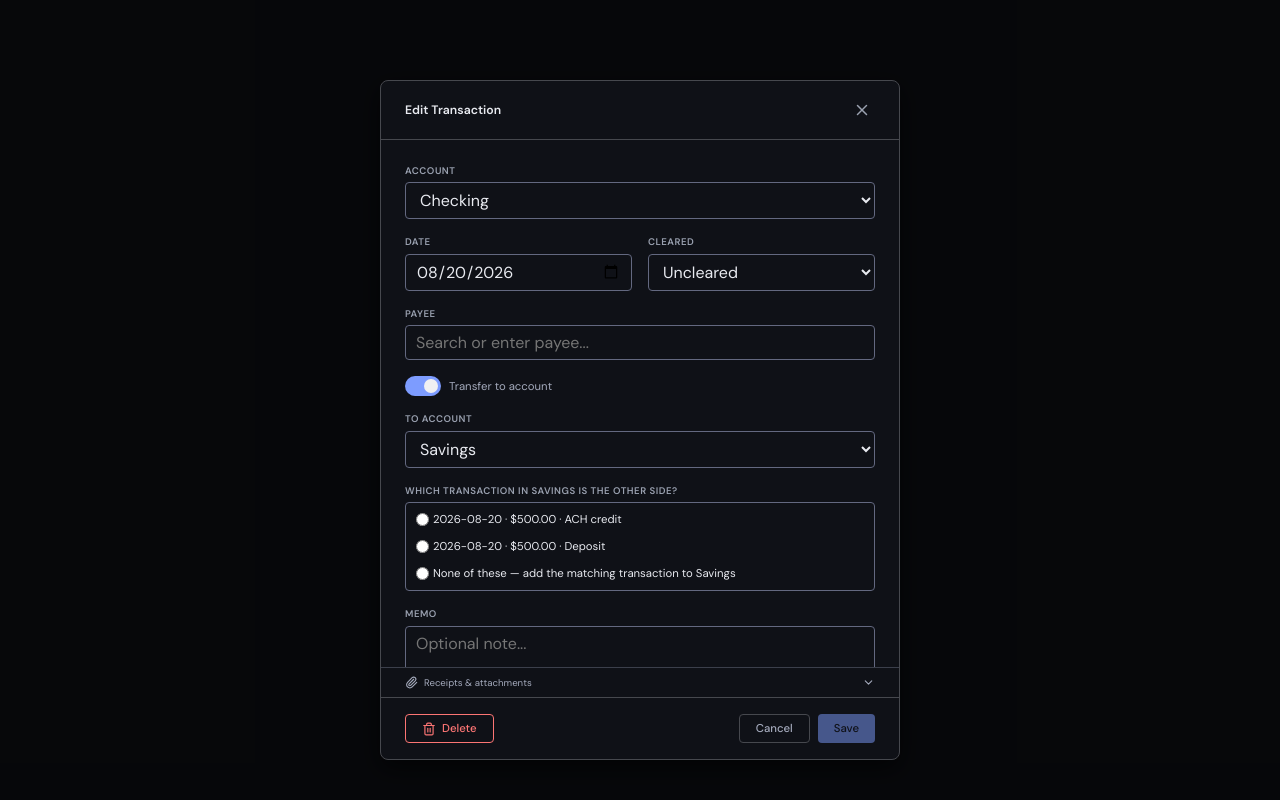
it: TransactionEditor transfers › holds Save until the partner question is answered
Expected: the button "Save" is disabled, left=818, top=714, right=875, bottom=743
Click the radio button labelled "2026-08-20 · $500.00 · ACH credit" at (422, 520), box left=416, top=513, right=429, bottom=526
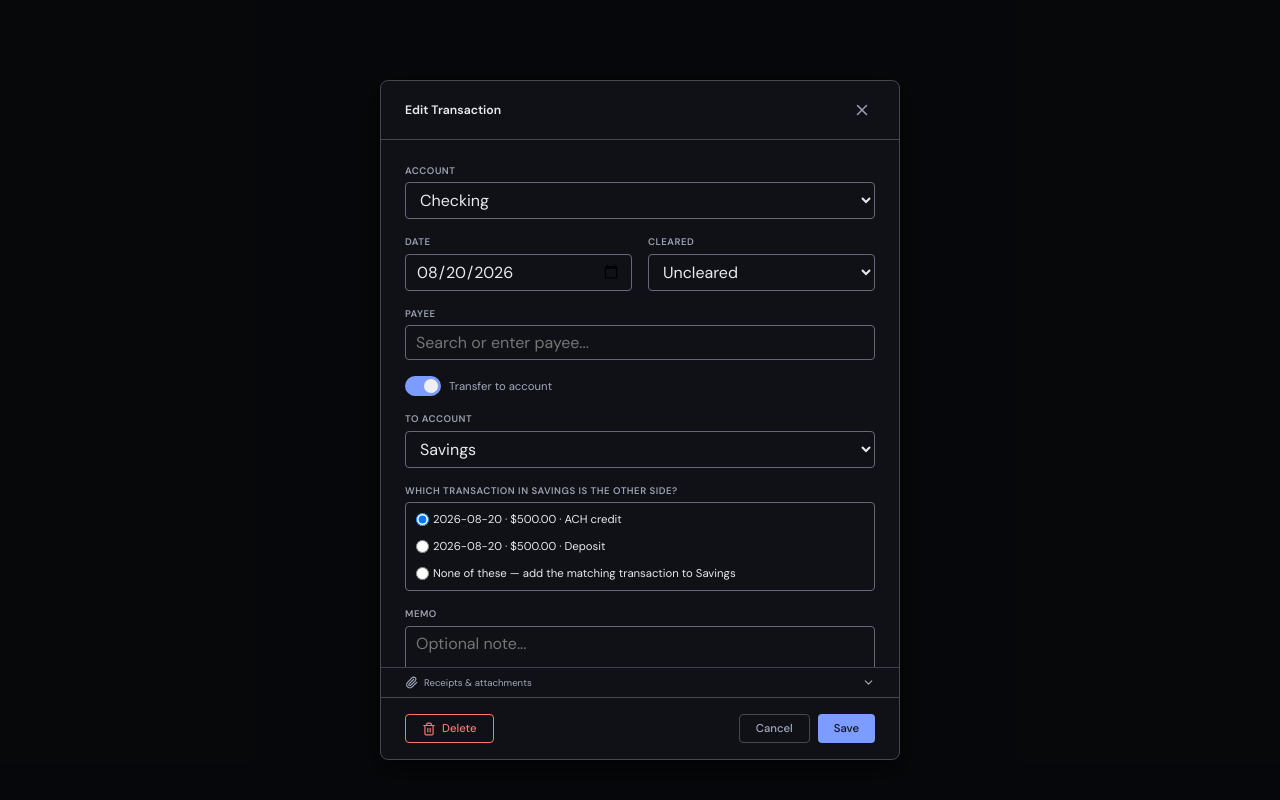
Now the button "Save" is enabled, box left=818, top=714, right=875, bottom=743
